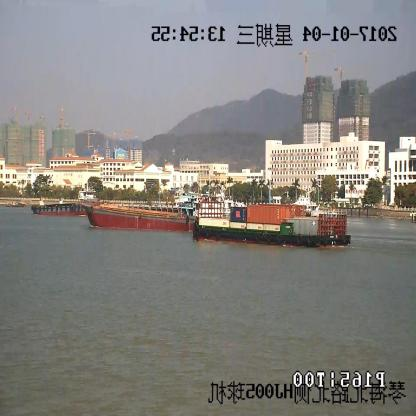Bulk Carrier: (81, 203, 192, 231), (33, 198, 85, 214)
